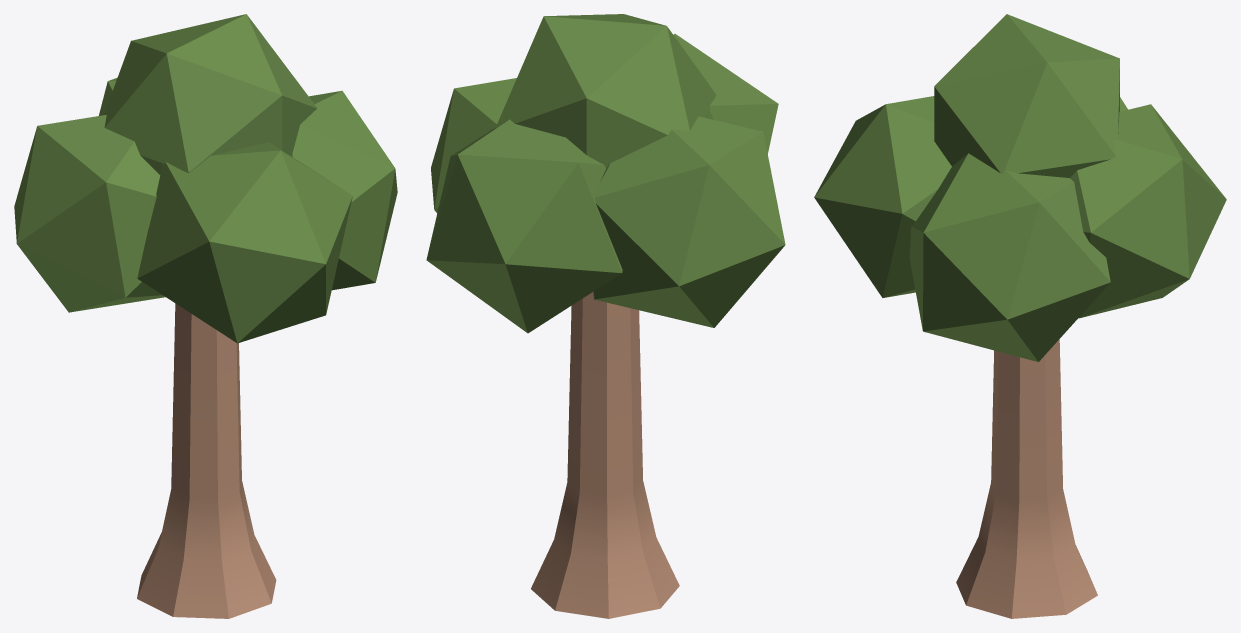
File: treeModel_1.glb
The picture shows the model from 3 angles, left to right: view 1: azimuth 30°, elevation 25°; view 2: azimuth 150°, elevation 25°; view 3: azimuth 270°, elevation 25°; orthographic projection. The views are drawn at different scales.
Visible parts, largest first — view 1: pPlatonic5.006, pCylinder1.007, pPlatonic1.006, pPlatonic3.006, pPlatonic2.006; view 2: pPlatonic3.006, pPlatonic4.006, pCylinder1.007, pPlatonic1.006, pPlatonic2.006, pPlatonic5.006; view 3: pPlatonic2.006, pPlatonic1.006, pCylinder1.007, pPlatonic4.006, pPlatonic5.006.
Part boxes in pixels (bbox=[...]): pPlatonic5.006: bbox=[137, 142, 352, 343]; pCylinder1.007: bbox=[137, 303, 276, 618]; pPlatonic1.006: bbox=[104, 14, 316, 174]; pPlatonic3.006: bbox=[14, 115, 165, 312]; pPlatonic2.006: bbox=[292, 90, 397, 290]; pPlatonic3.006: bbox=[593, 116, 785, 327]; pPlatonic4.006: bbox=[426, 119, 622, 333]; pCylinder1.007: bbox=[531, 292, 679, 618]; pPlatonic1.006: bbox=[495, 14, 716, 168]; pPlatonic2.006: bbox=[431, 78, 516, 213]; pPlatonic5.006: bbox=[673, 34, 778, 153]; pPlatonic2.006: bbox=[909, 153, 1110, 361]; pPlatonic1.006: bbox=[934, 14, 1119, 177]; pCylinder1.007: bbox=[956, 339, 1097, 618]; pPlatonic4.006: bbox=[1070, 104, 1226, 318]; pPlatonic5.006: bbox=[814, 96, 951, 297].
Bounding box in the file's own units: 0.1076 × 0.1567 × 0.1064.
